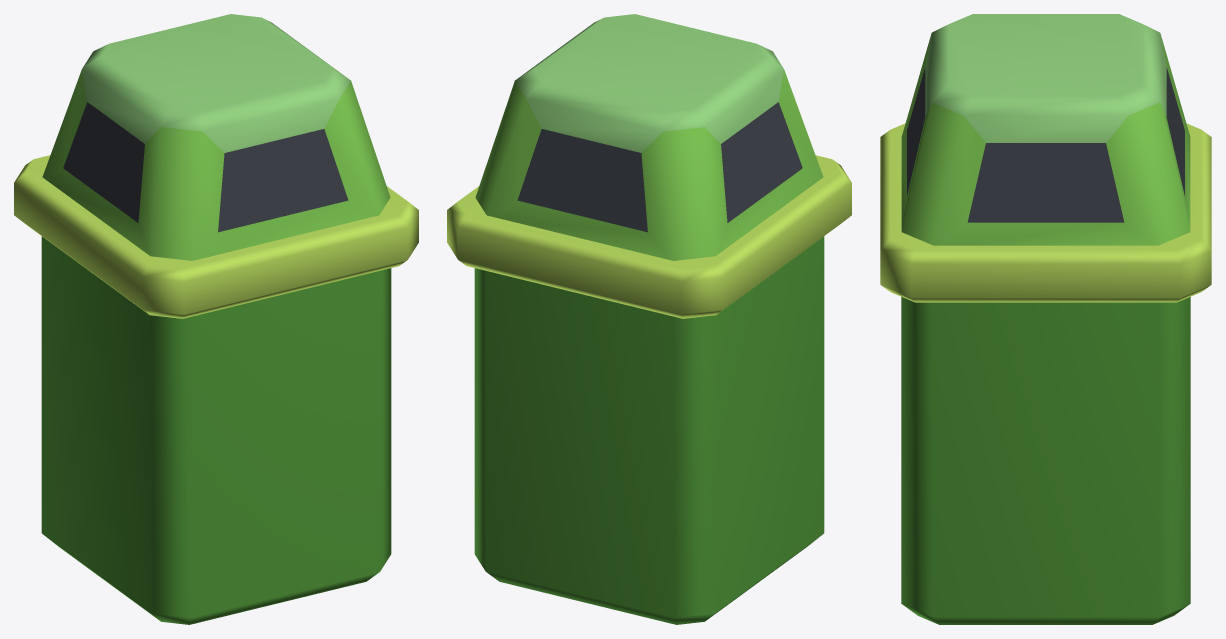
The model's file is trash_05_pacote.glb.
The picture shows the model from 3 angles, left to right: view 1: azimuth 30°, elevation 25°; view 2: azimuth 150°, elevation 25°; view 3: azimuth 270°, elevation 25°; orthographic projection. The views are drawn at different scales.
Visible parts, largest first — view 1: trash_05_pacote; view 2: trash_05_pacote; view 3: trash_05_pacote.
Boxes of the visible parts, x1,y1,x2,y2 form: trash_05_pacote: (14, 14, 418, 624); trash_05_pacote: (447, 14, 851, 624); trash_05_pacote: (880, 14, 1211, 624).
Size of the model in its own units: 0.5099 by 0.8757 by 0.5099.
1 material, 1 textured.
